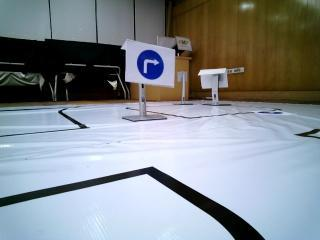right: (130, 46, 174, 85)
